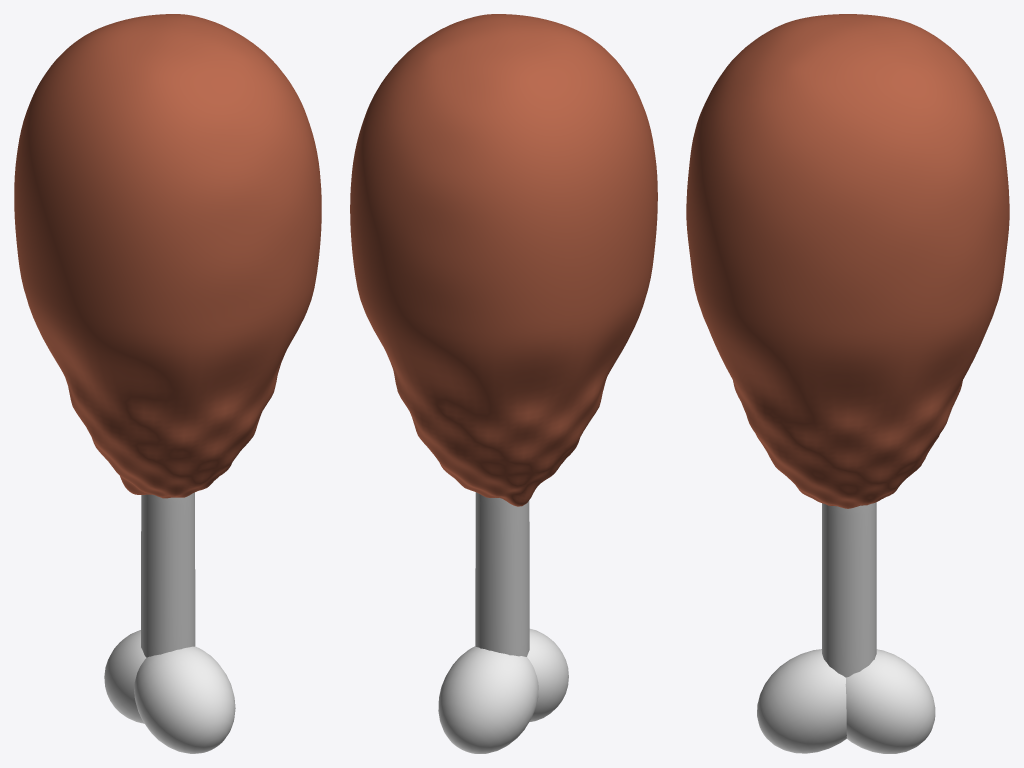
The model's file is Pollo.fbx.
3 views of the same model, side by side, from view 1: azimuth 30°, elevation 25°; view 2: azimuth 150°, elevation 25°; view 3: azimuth 270°, elevation 25° (orthographic). The views are drawn at different scales.
Visible parts, largest first — view 1: Cubo.001, Cubo, Esfera, Esfera.001; view 2: Cubo.001, Cubo, Esfera.001, Esfera; view 3: Cubo.001, Cubo, Esfera, Esfera.001.
Part boxes in pixels (box(x1,y1,x2,y2)): Cubo.001: box(14, 14, 321, 498); Cubo: box(141, 492, 195, 657); Esfera: box(134, 646, 235, 753); Esfera.001: box(104, 630, 146, 723); Cubo.001: box(350, 14, 657, 506); Cubo: box(475, 492, 529, 656); Esfera.001: box(438, 646, 538, 753); Esfera: box(527, 629, 568, 721); Cubo.001: box(686, 14, 1009, 508); Cubo: box(822, 502, 876, 677); Esfera: box(757, 649, 846, 753); Esfera.001: box(845, 649, 935, 753).
Bounding box in the file's own units: 8.25 × 21.55 × 8.78.
